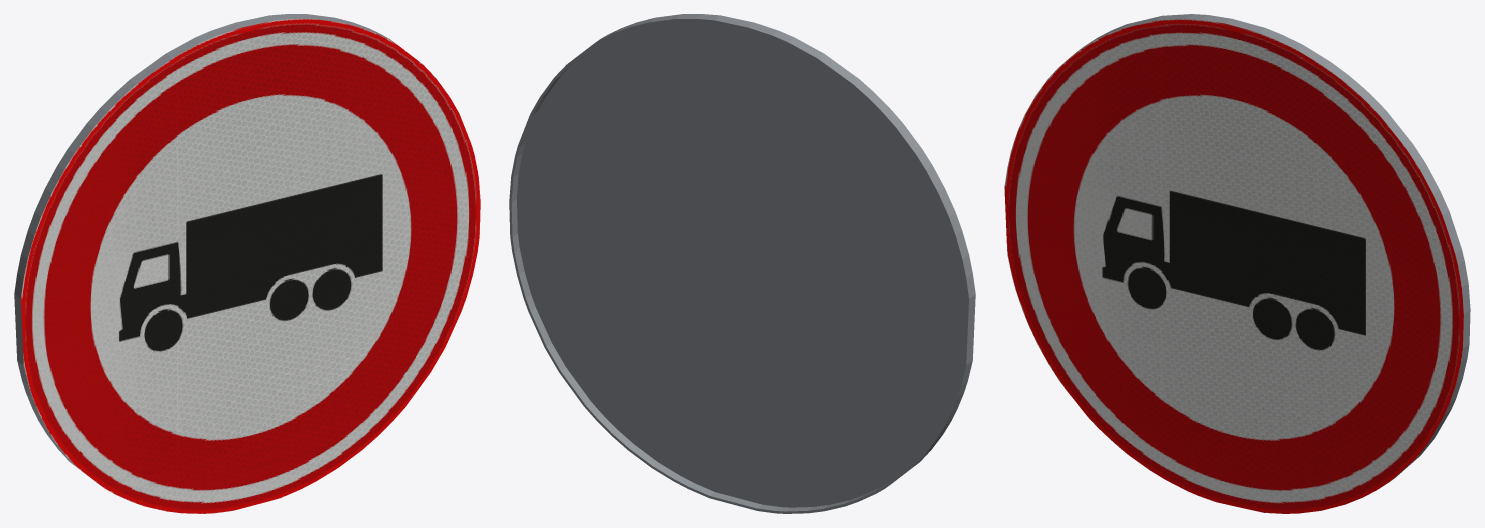
3 views of the same model, side by side, from view 1: azimuth 30°, elevation 25°; view 2: azimuth 150°, elevation 25°; view 3: azimuth 330°, elevation 25° (orthographic).
Visible parts, largest first — view 1: cat_56746a04c6b0b49c; view 2: cat_56746a04c6b0b49c; view 3: cat_56746a04c6b0b49c.
Boxes of the visible parts, x1,y1,x2,y2 form: cat_56746a04c6b0b49c: (14, 14, 480, 513); cat_56746a04c6b0b49c: (509, 14, 975, 513); cat_56746a04c6b0b49c: (1004, 14, 1470, 513).
Size of the model in its own units: 0.6 by 0.015 by 0.6.
Materials: 2 (1 with a texture image).
